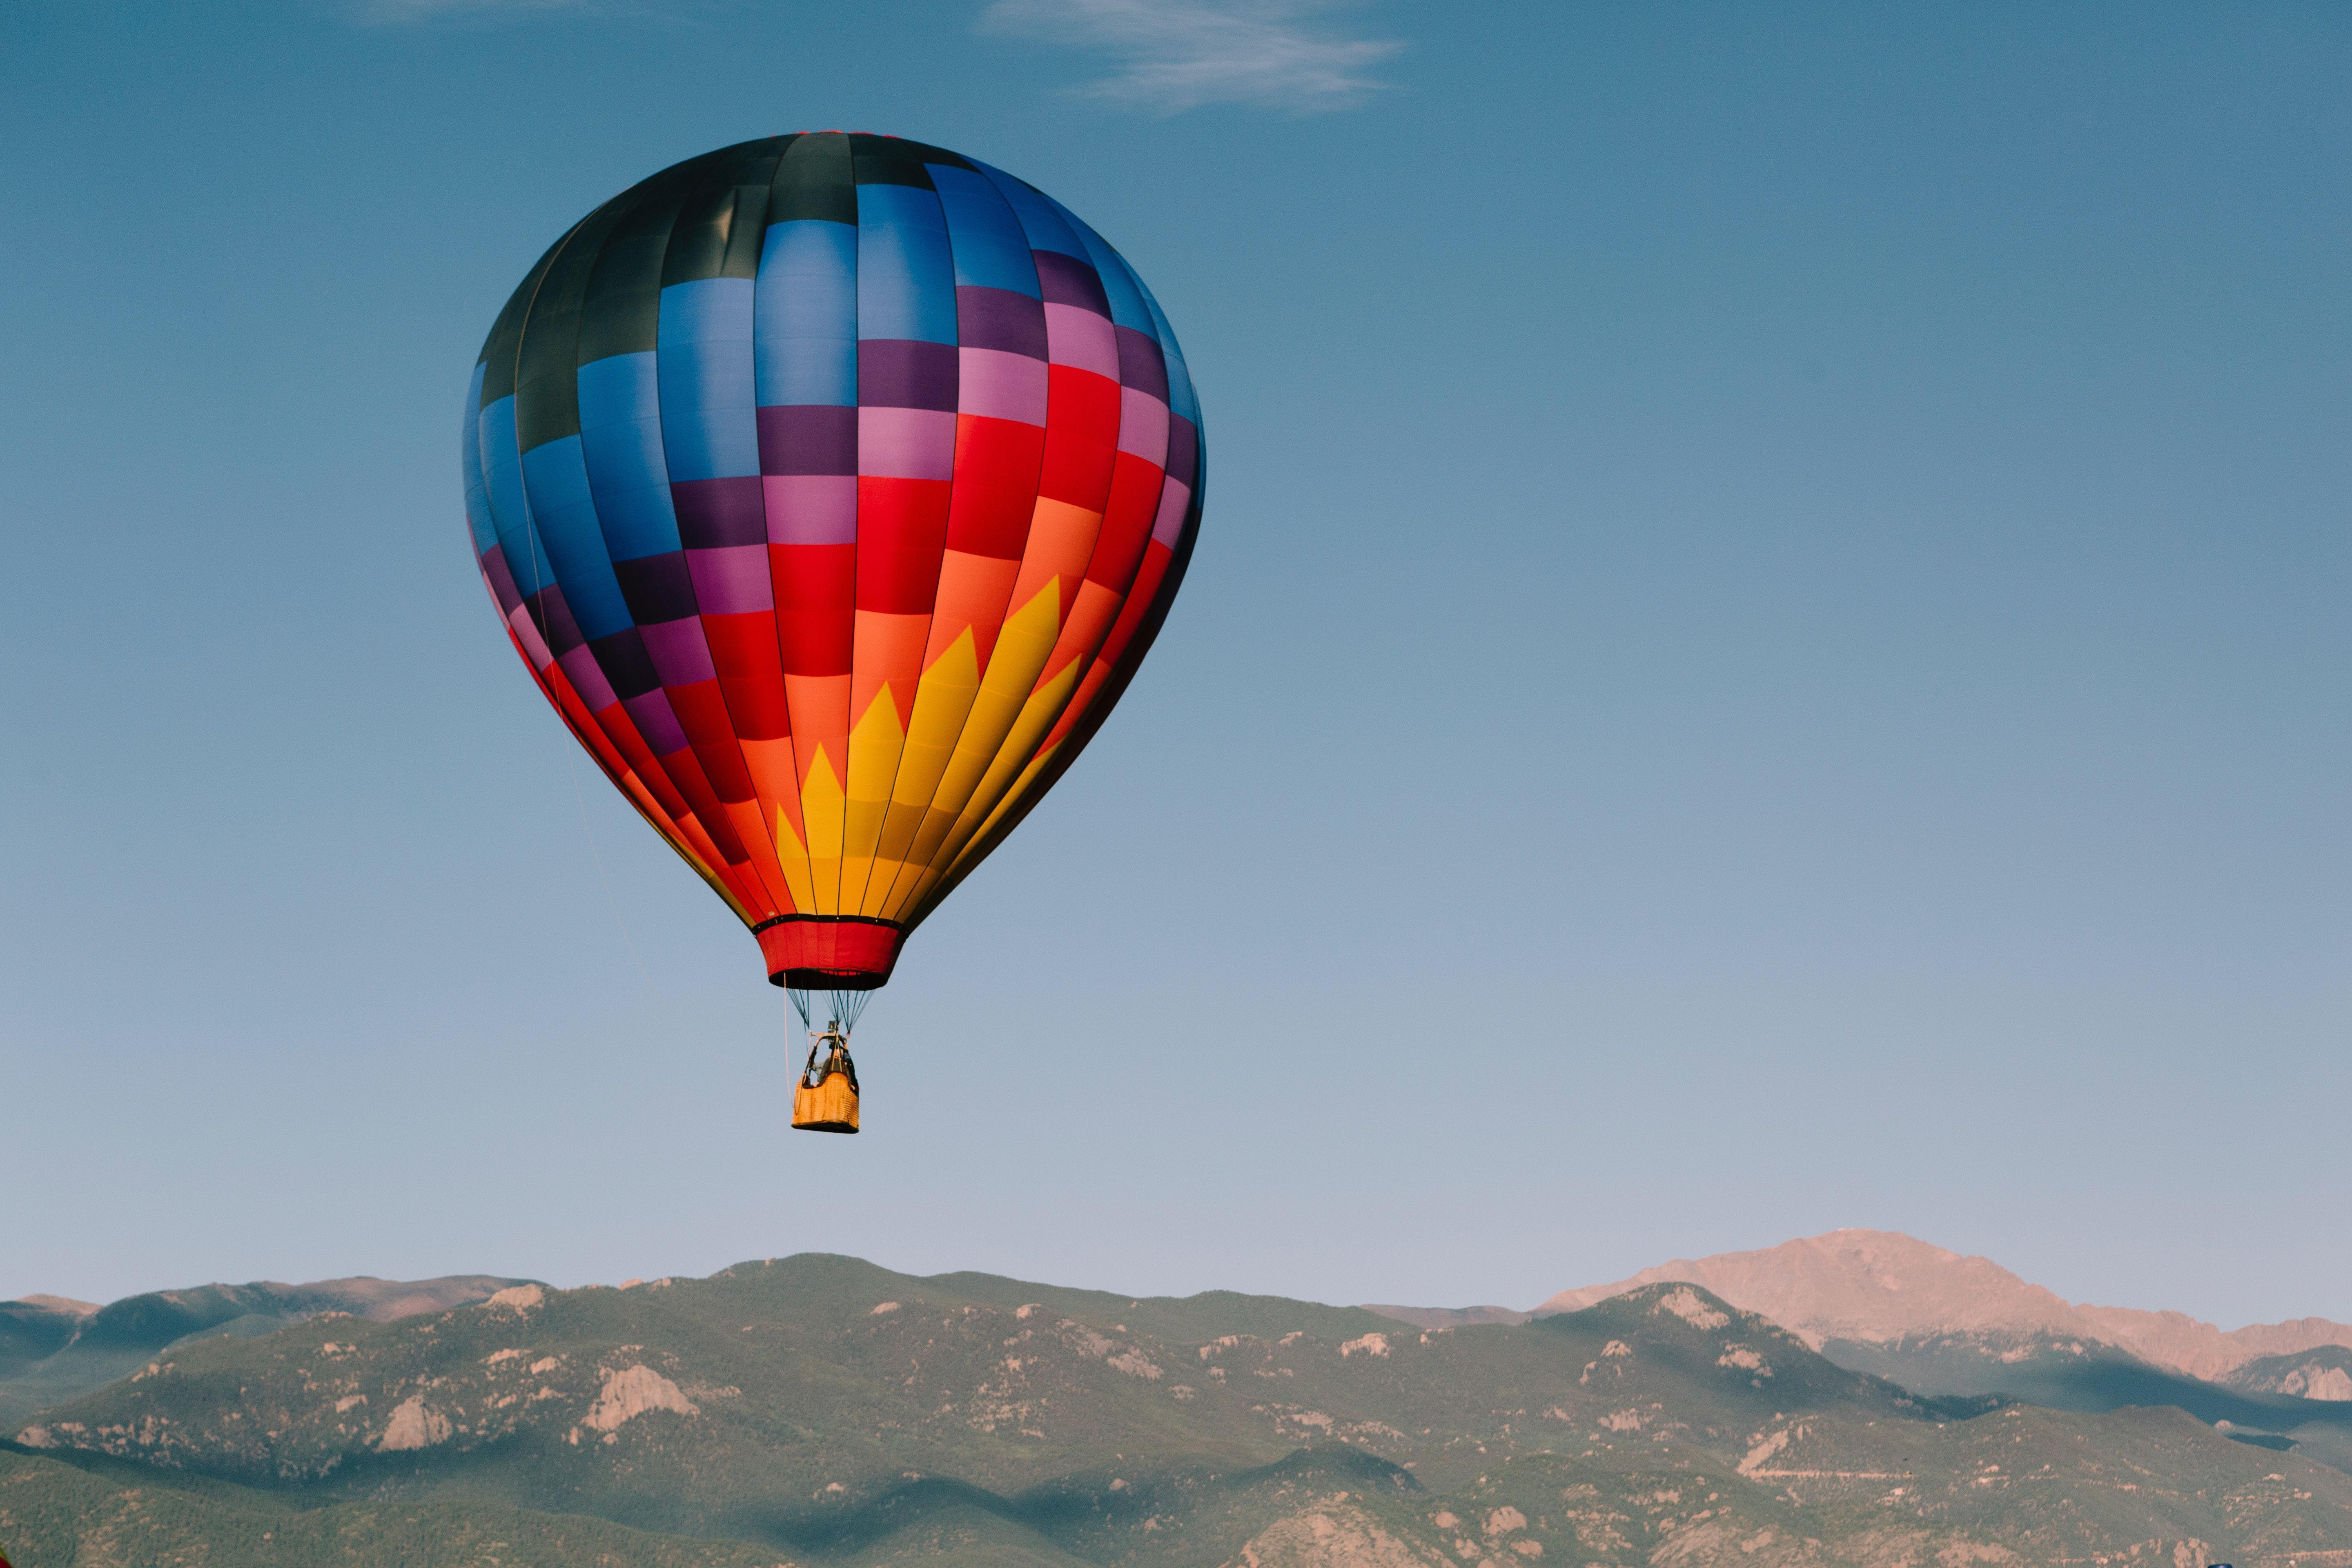hot air ballon: (448, 128, 1211, 1136)
